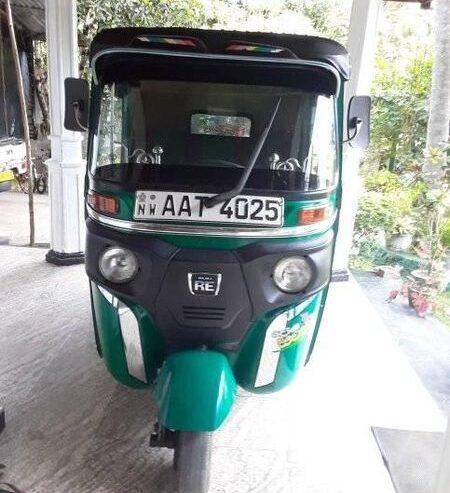threewheel: (63, 26, 372, 493)
